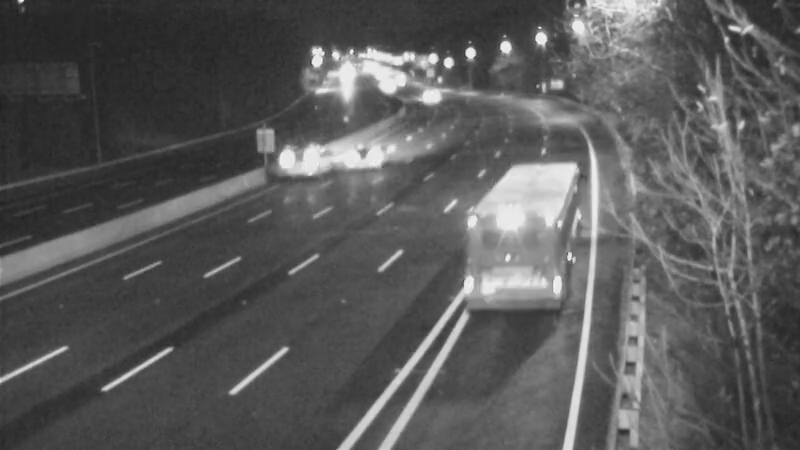vehicle: (330, 119, 410, 199), (258, 121, 338, 201), (470, 189, 550, 269), (401, 71, 451, 121)
